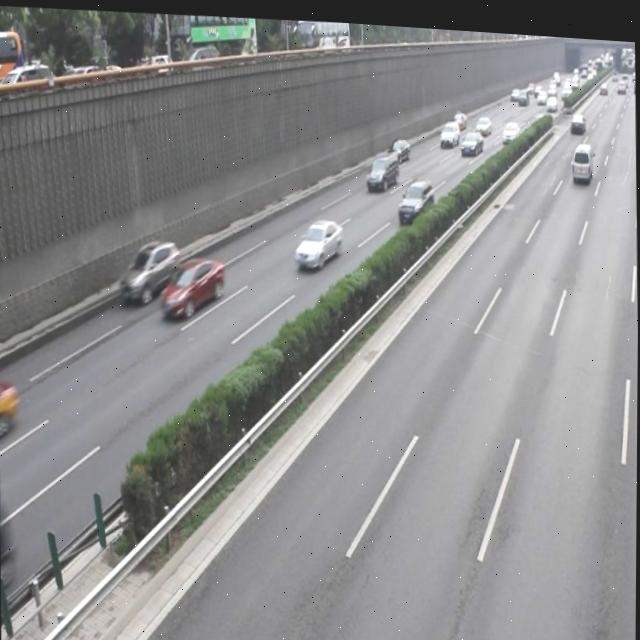car: (118, 235, 182, 304), (159, 250, 225, 316), (293, 211, 342, 267), (396, 174, 434, 221)
